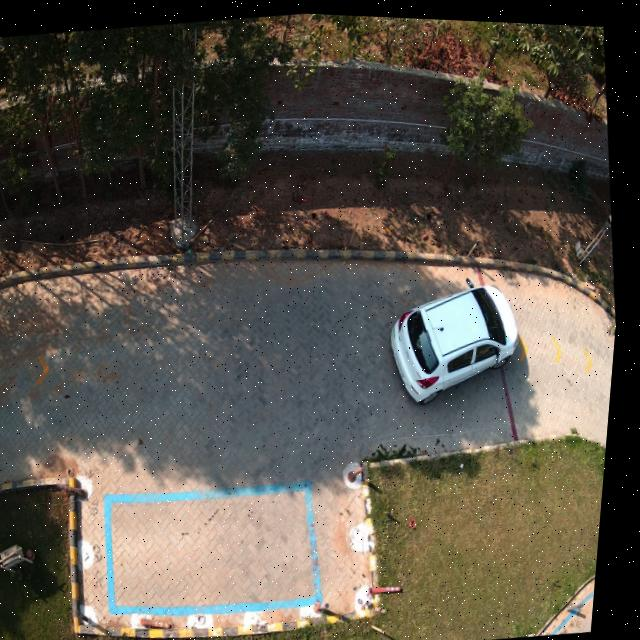car: (396, 282, 524, 401)
